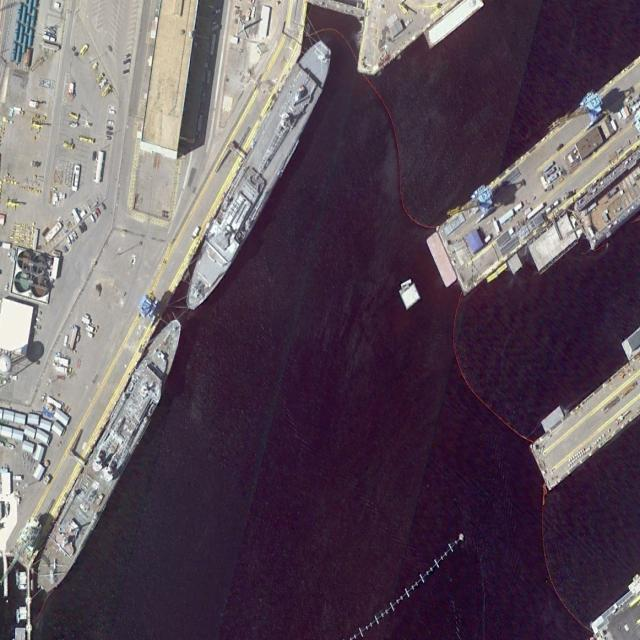Other Ship: (26, 308, 196, 602), (174, 30, 340, 325)
